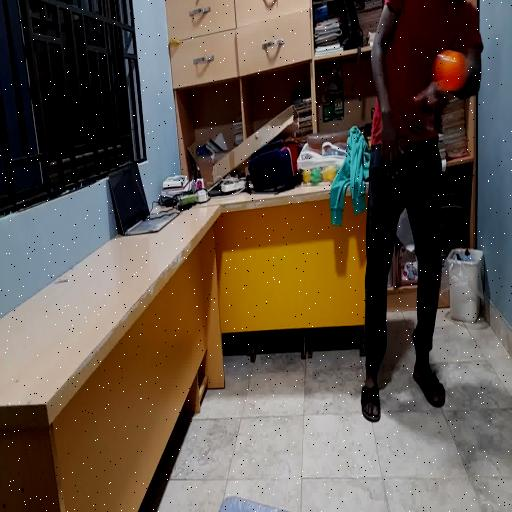plastic-ball: (442, 49, 464, 91)
